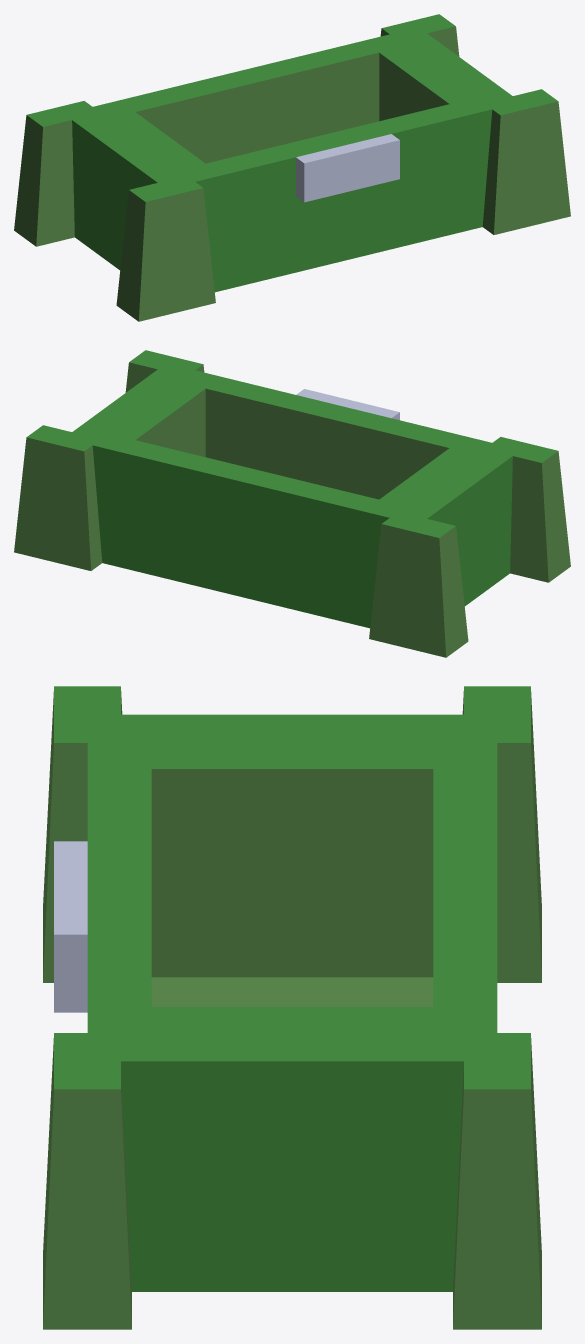
The model's file is rubbishContainer.glb.
3 renders of one model, top to bottom at view 1: azimuth 30°, elevation 25°; view 2: azimuth 150°, elevation 25°; view 3: azimuth 270°, elevation 25°, orthographic. The views are drawn at different scales.
Visible parts, largest first — view 1: chest; view 2: chest; view 3: chest.
Part boxes in pixels (x1,y1,x2,y2): chest: [14, 14, 570, 321]; chest: [14, 350, 570, 657]; chest: [43, 686, 541, 1329].
Bounding box in the file's own units: 0.5208 × 0.1328 × 0.2604.
